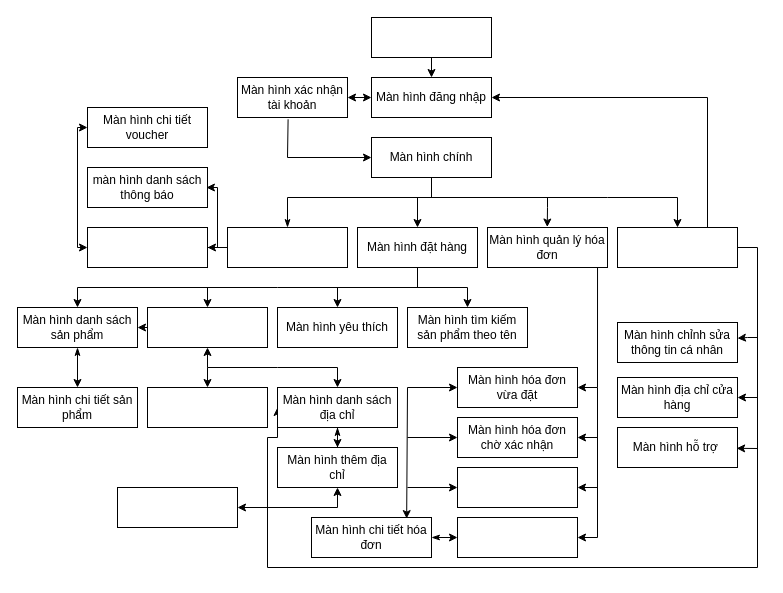
This 783x593 diagram has some shape labels left out. The centre of each missing label's shape, as x and y in pixels:
"Màn hình chỉnh sửa địa chỉ" belongs at (177,507).
"Màn hình chọn thời gian giao hàng" belongs at (207,407).
"Màn hình danh sách voucher" belongs at (147,247).
"Màn hình hóa đơn hoàn thành" belongs at (517,537).
"Màn hình hóa đơn đã hủy" belongs at (517,487).
"Màn hình onboarding" belongs at (431,37).
"Màn hình thanh toán" belongs at (207,327).
"Màn hình thông tin cá nhân" belongs at (677,247).
"Màn hình trang chủ" belongs at (287,247).
